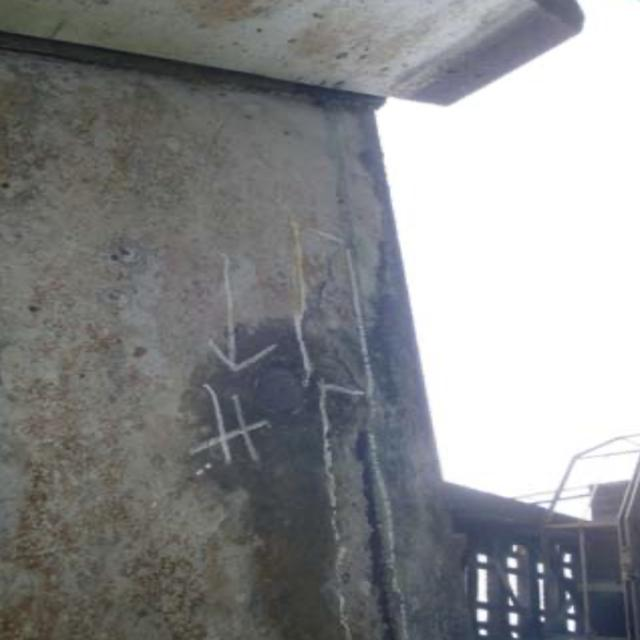crack: (298, 235, 415, 640)
